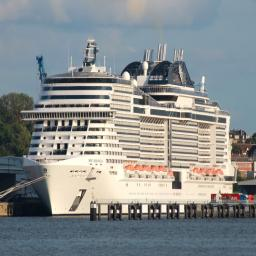cruises: (23, 34, 239, 218)
